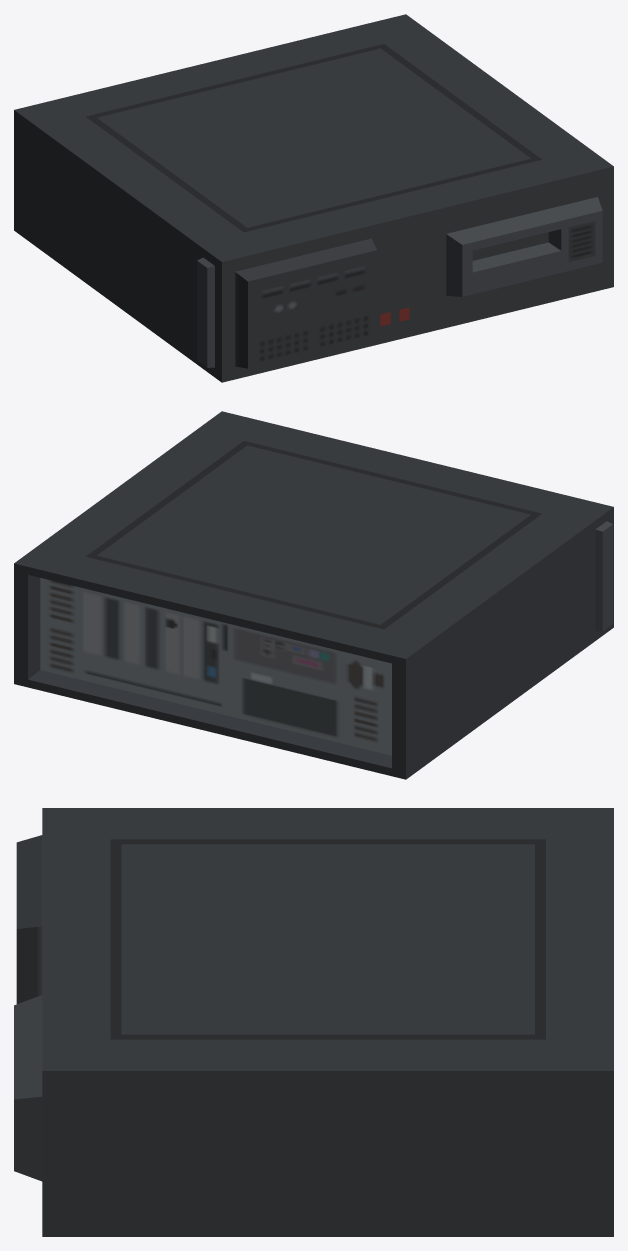
File: SM_Prop_Computer_Tower_Flat_01.glb
3 views of the same model, one above another, from view 1: azimuth 30°, elevation 25°; view 2: azimuth 150°, elevation 25°; view 3: azimuth 270°, elevation 25° (orthographic). The views are drawn at different scales.
Parts seen in each view (by area): view 1: SM_Prop_Computer_Tower_Flat_01; view 2: SM_Prop_Computer_Tower_Flat_01; view 3: SM_Prop_Computer_Tower_Flat_01.
Part boxes in pixels (x1,y1,x2,y2): SM_Prop_Computer_Tower_Flat_01: [14, 14, 613, 382]; SM_Prop_Computer_Tower_Flat_01: [14, 411, 613, 779]; SM_Prop_Computer_Tower_Flat_01: [14, 808, 613, 1236].
Bounding box in the file's own units: 0.5557 × 0.1606 × 0.5267.
Materials: 1 (1 with a texture image).
